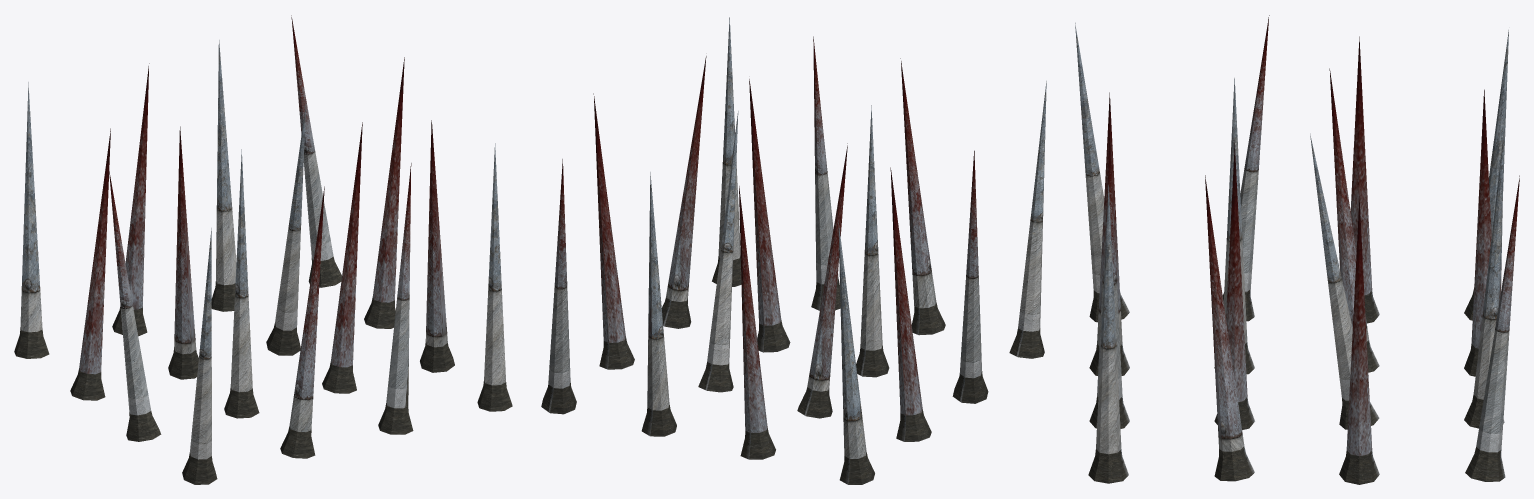
File: mm9_deco_spikepit.glb
3 renders of one model, left to right at view 1: azimuth 30°, elevation 25°; view 2: azimuth 150°, elevation 25°; view 3: azimuth 270°, elevation 25°, orthographic. The views are drawn at different scales.
Parts seen in each view (by area): view 1: Spikepit; view 2: Spikepit; view 3: Spikepit.
Boxes of the visible parts, x1=… form: Spikepit: x1=14, y1=15, x2=512, y2=484; Spikepit: x1=541, y1=17, x2=1046, y2=484; Spikepit: x1=1075, y1=15, x2=1519, y2=484.
Size of the model in its own units: 2.84 by 2.14 by 2.92.
Materials: 1 (1 with a texture image).
